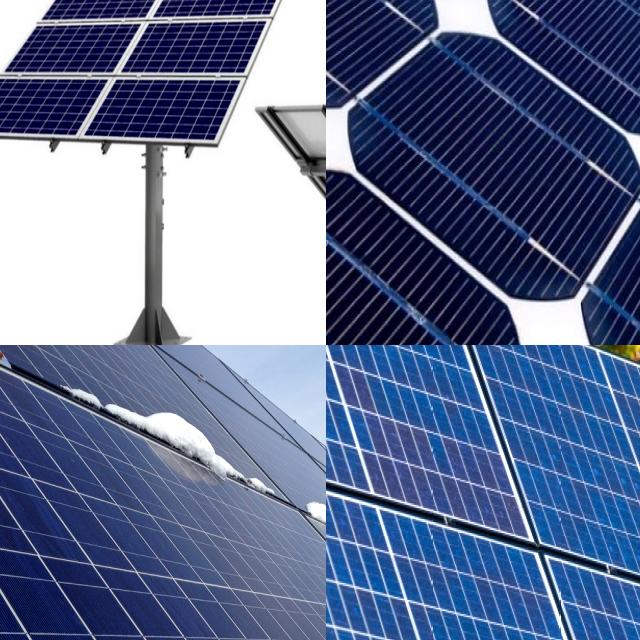crack: (326, 0, 640, 345), (326, 345, 640, 640), (0, 0, 325, 172)
panel: (155, 382, 285, 502), (43, 345, 151, 434)
